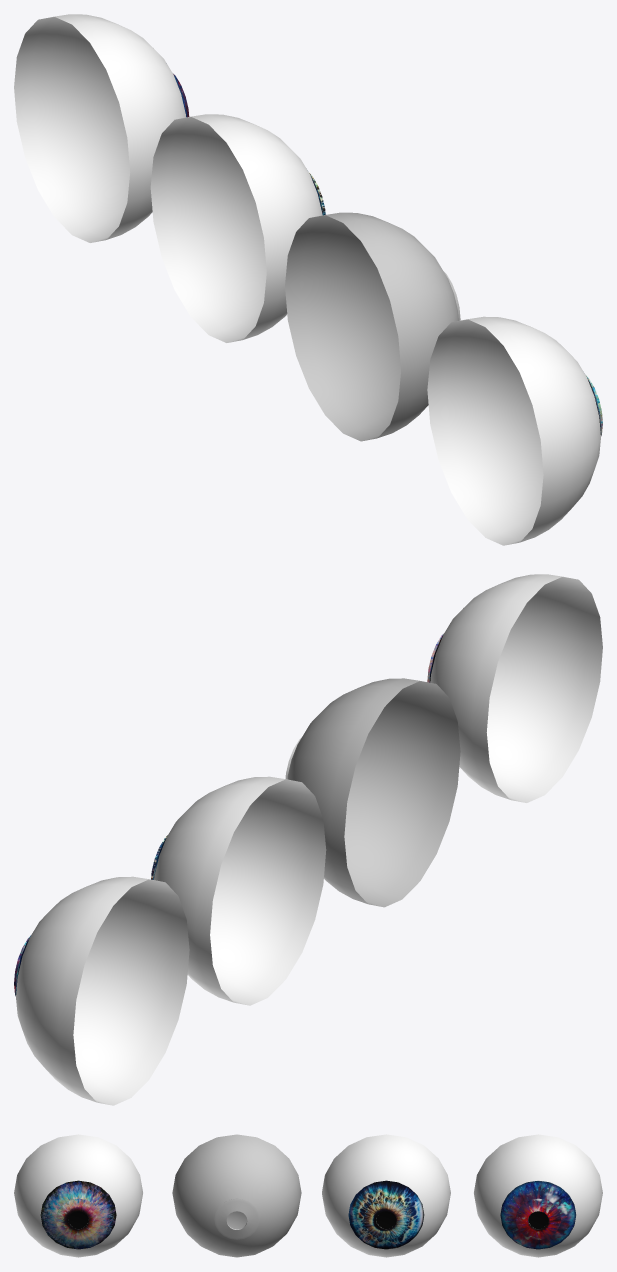
File: Eyes.fbx
3 renders of one model, top to bottom at view 1: azimuth 30°, elevation 25°; view 2: azimuth 150°, elevation 25°; view 3: azimuth 270°, elevation 25°, orthographic. The views are drawn at different scales.
Visible parts, largest first — view 1: Eye_Iris1, Eye_Iris, Eye_Iris3, Eye_Iris2; view 2: Eye_Iris3, Eye_Iris1, Eye_Iris2, Eye_Iris; view 3: Eye_Iris, Eye_Iris1, Eye_Iris2, Eye_Iris3.
Part boxes in pixels (<box>): Eye_Iris1: <box>427,316,602,545</box>; Eye_Iris: <box>285,212,460,441</box>; Eye_Iris3: <box>14,14,189,242</box>; Eye_Iris2: <box>150,114,325,342</box>; Eye_Iris3: <box>14,876,189,1105</box>; Eye_Iris1: <box>427,574,602,802</box>; Eye_Iris2: <box>151,776,326,1005</box>; Eye_Iris: <box>285,678,460,907</box>; Eye_Iris: <box>172,1134,301,1257</box>; Eye_Iris1: <box>14,1134,142,1257</box>; Eye_Iris2: <box>322,1134,450,1257</box>; Eye_Iris3: <box>474,1134,602,1257</box>.
Bounding box in the file's own units: 171 × 338 × 1539.
